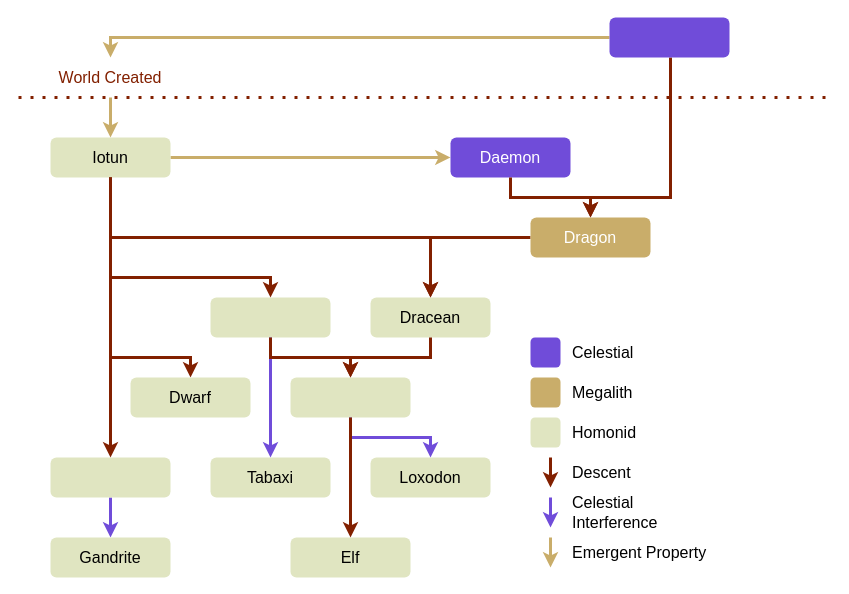
Some shapes in this 849 by 594 pixel diagram are drawn without their labels. Here are the shapes that lost their labels. From the top down, the centre of each, then its label:
At point (669, 37): "Fey".
At point (270, 317): "Human".
At point (350, 397): "Orc".
At point (110, 477): "Jotun".
